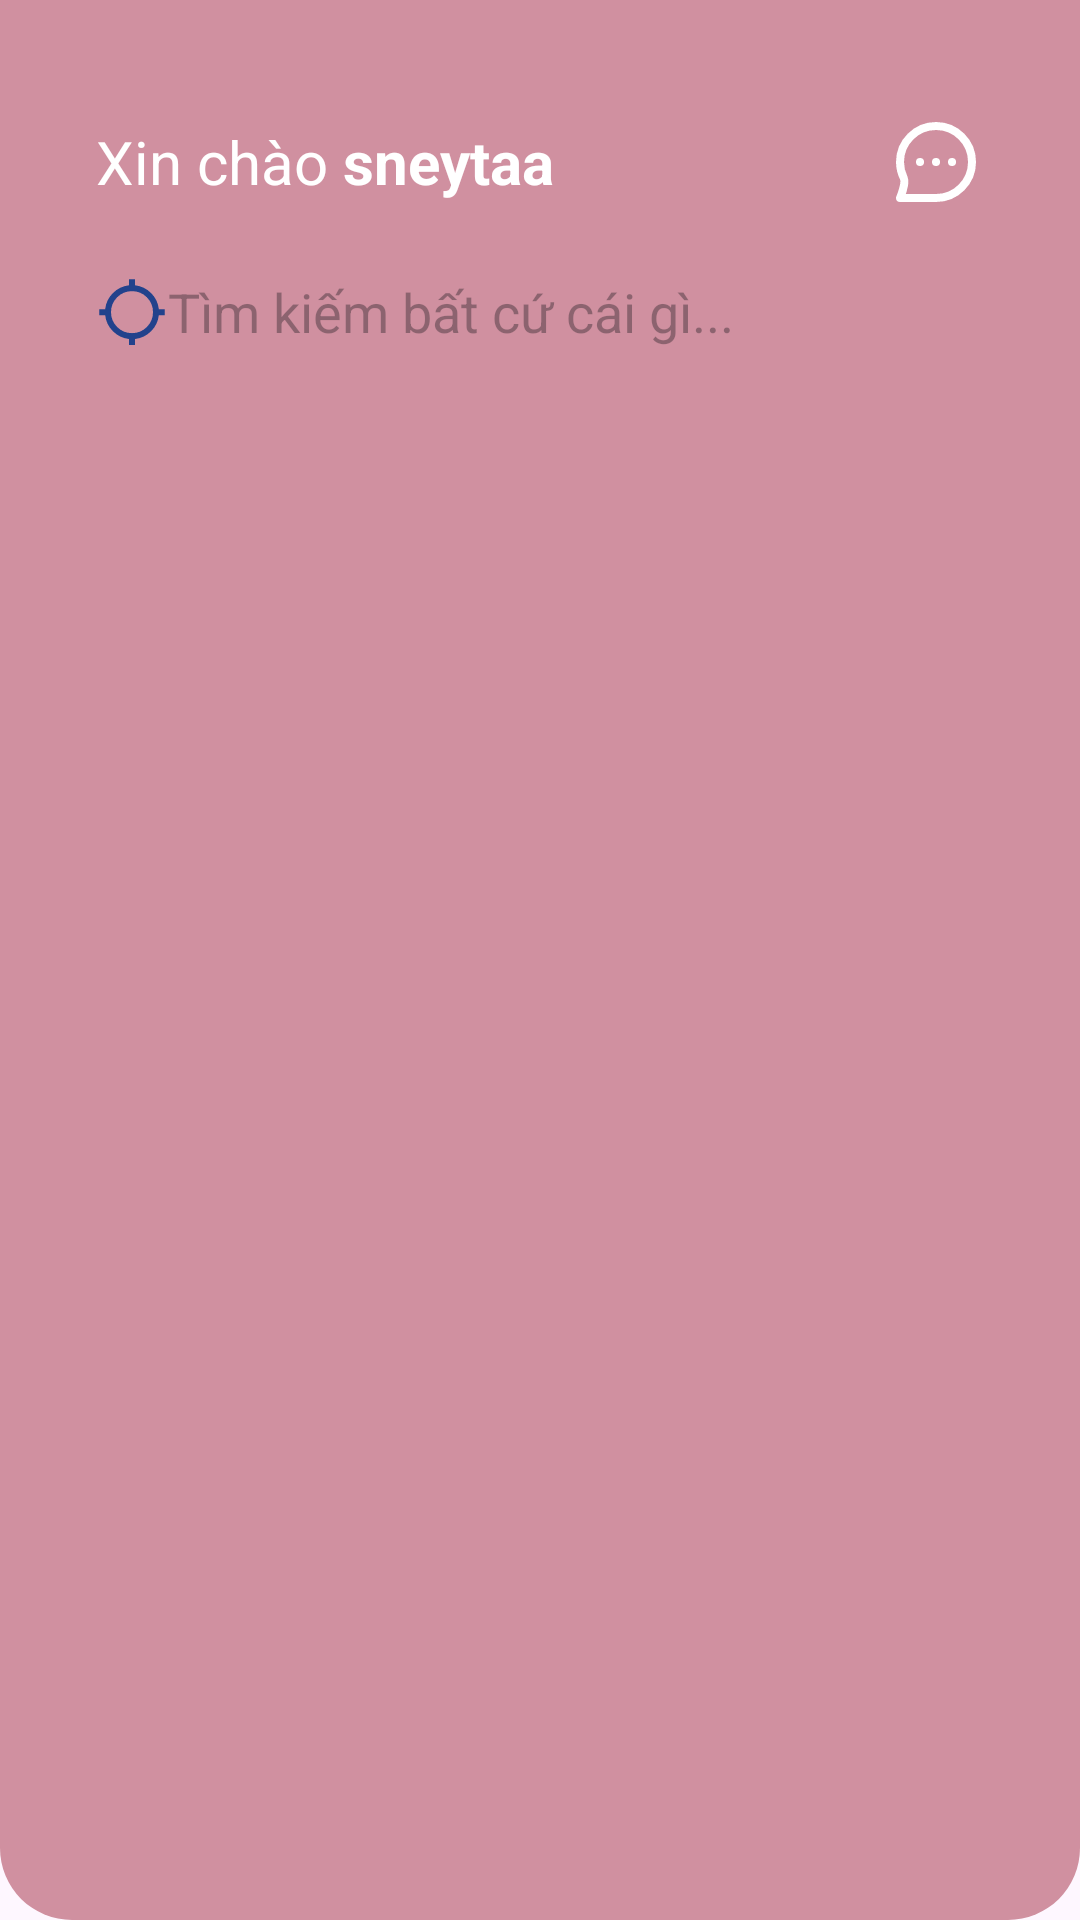

Screen size 1080 × 1920. Icon name, then its box in pixels as [left=x1, top=y1, right=x2, bottom=y2]:
mess: [left=896, top=122, right=976, bottom=202]
